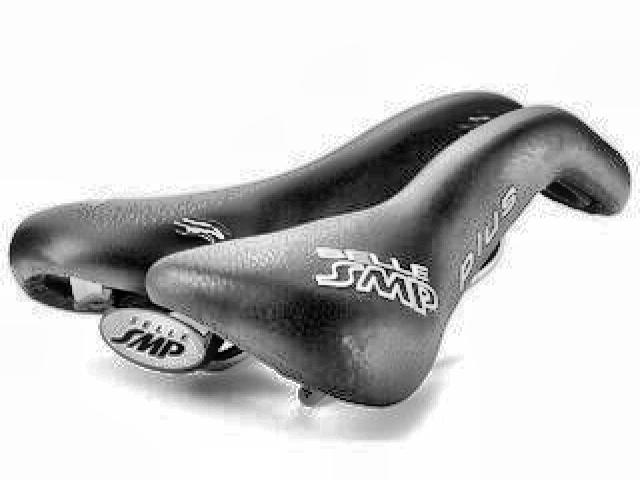saddle: (7, 76, 635, 410)
